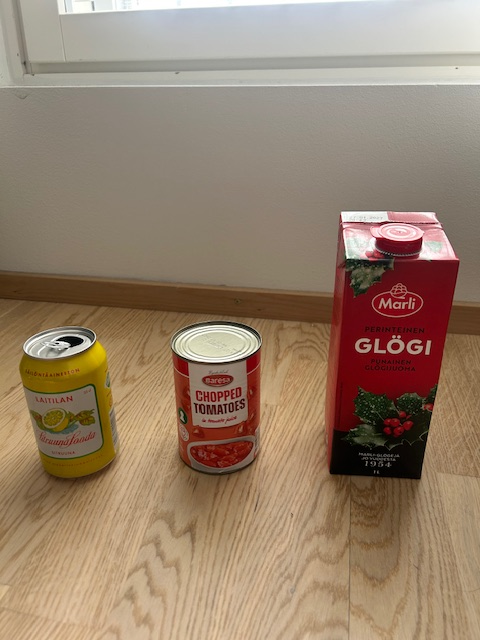Dryckeskartong: (324, 209, 460, 480)
Konservburk: (170, 319, 262, 476)
Pantburk: (19, 325, 121, 479)
